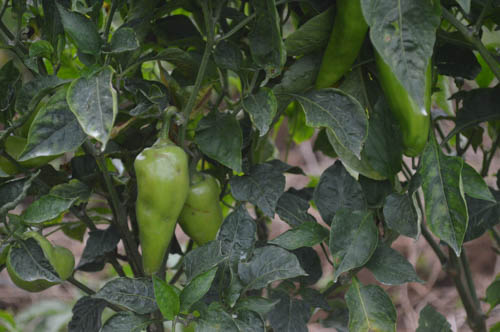ChiliPepper: (131, 145, 184, 276), (379, 44, 436, 158), (319, 6, 367, 96), (181, 176, 224, 241)
